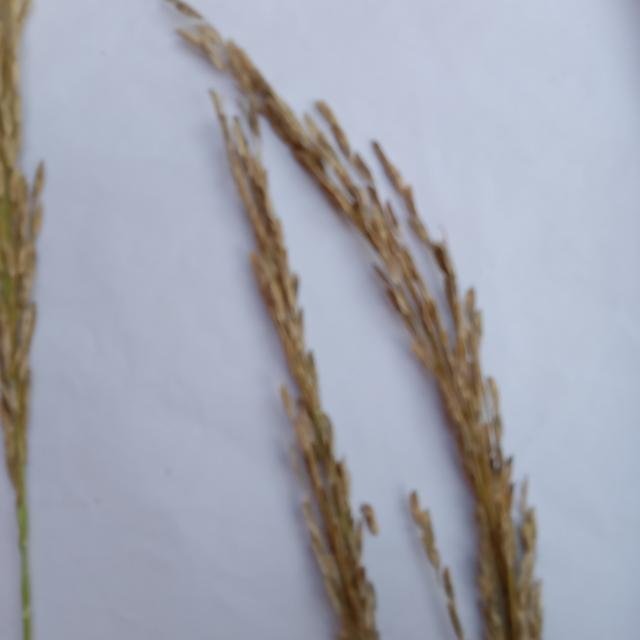Neck_Blast: (228, 40, 532, 636), (228, 158, 380, 640), (0, 3, 41, 481)
